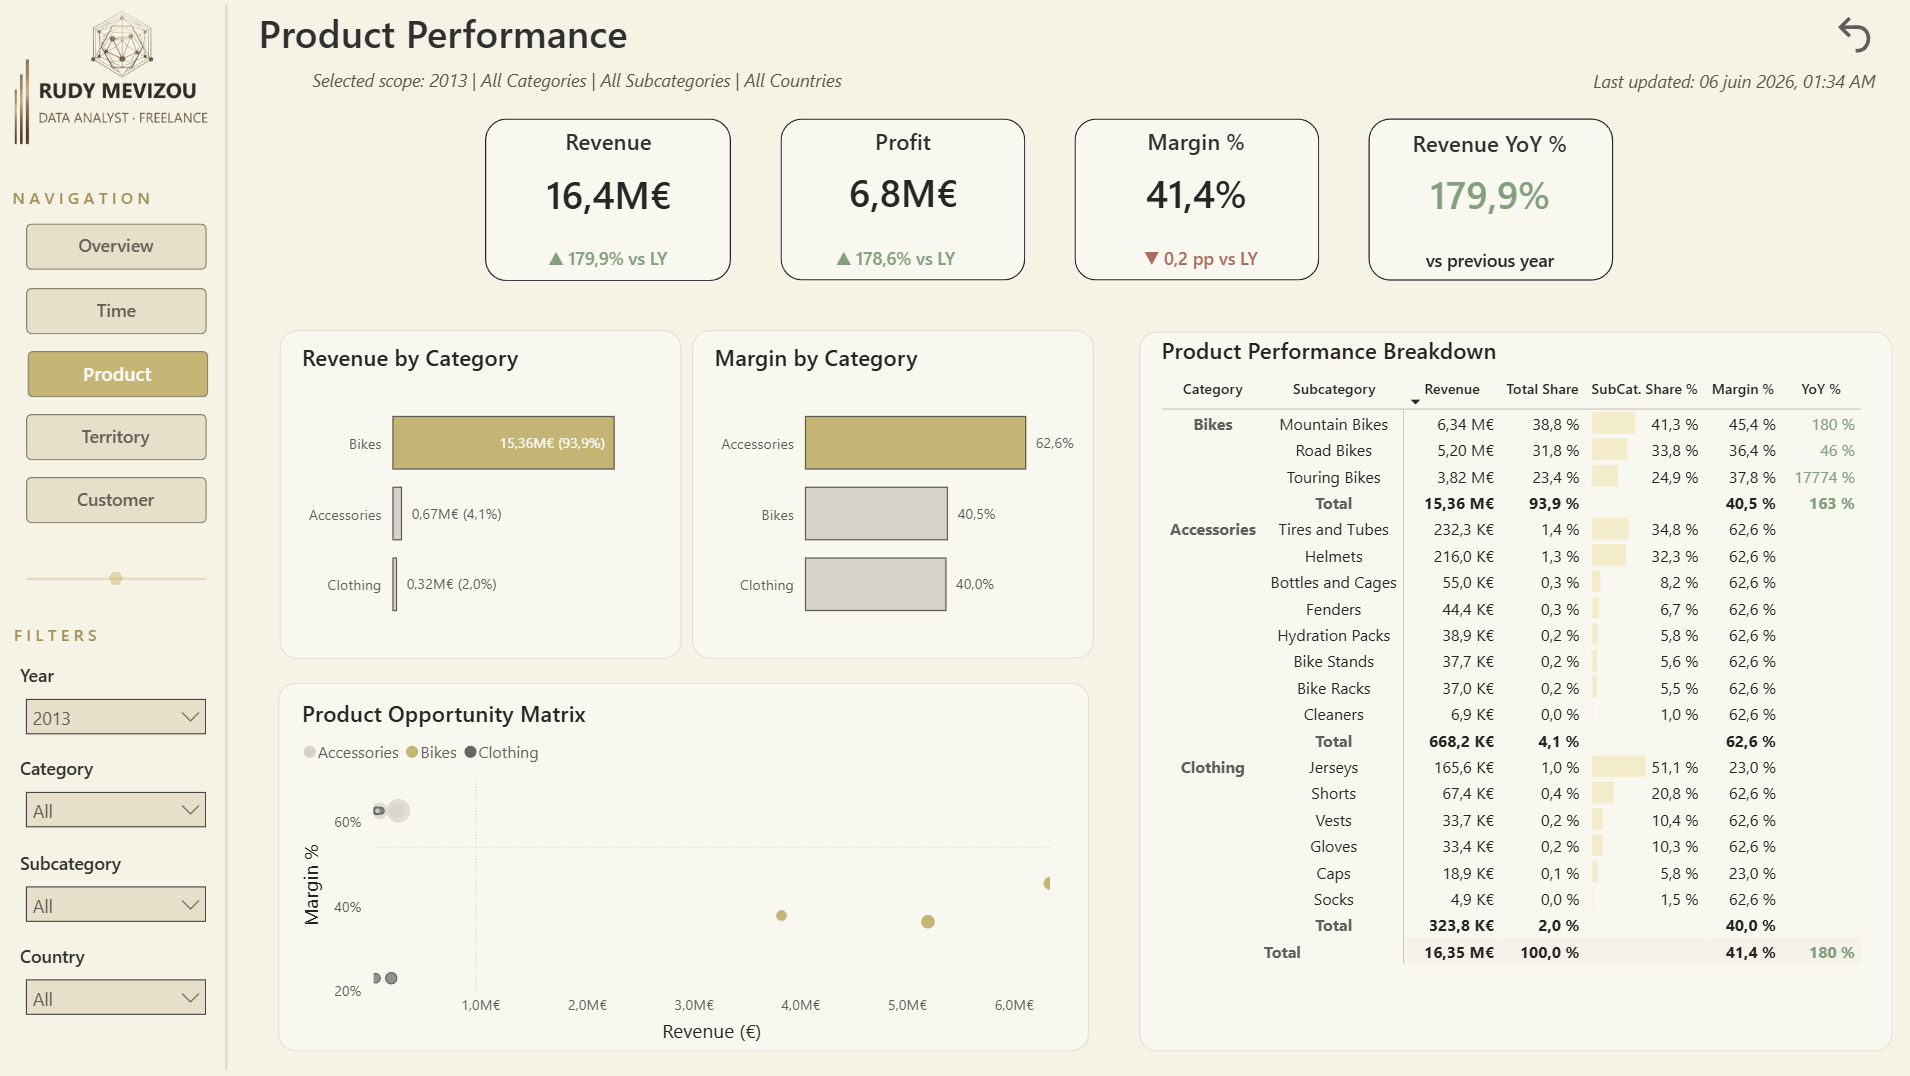

Layout of this report page (visuals, bound fields, positions):
{"tool":"powerbi","page":{"name":"Product Performance","canvas":[1600,900],"ordinal":2},"visuals":[{"type":"textbox","box":[213.3,0,501.2,56.2],"z":0,"group":"g23"},{"type":"shape","box":[654,98.3,204,135],"z":0,"group":"g16"},{"type":"shape","box":[899,98.8,204,135],"z":0,"group":"g6"},{"type":"shape","box":[408,98.9,205,135.6],"z":0,"group":"g22"},{"type":"group","id":"g1","title":"KPI YoY","box":[1144.4,98.9,204,135],"z":0,"group":"g15"},{"type":"shape","box":[1144.4,98.9,203.9,135.1],"z":0,"group":"g1"},{"type":"card","title":"Profit","fields":{"Values":["Mesures.Profit"]},"box":[675.2,104.8,161.7,86.4],"z":0,"group":"g7"},{"type":"card","title":"Margin %","fields":{"Values":["Mesures.Margin %"]},"box":[930.8,105.1,140.4,86.7],"z":0,"group":"g8"},{"type":"card","title":"Revenue","fields":{"Values":["Mesures.Revenue"]},"box":[418.9,105.4,183.2,88.5],"z":0,"group":"g9"},{"type":"card","title":"Revenue YoY %","fields":{"Values":["Mesures.Revenue YoY Display"]},"box":[1172.6,105.9,145,86.4],"z":0,"group":"g10"},{"type":"shape","box":[25,186.4,150.6,38.6],"z":0,"group":"g24"},{"type":"shape","box":[25.5,239.3,150.6,38.6],"z":0,"group":"g21"},{"type":"shape","box":[235.7,275,335.1,274.2],"z":0,"group":"g11"},{"type":"group","id":"g2","title":"Margin % by Category","box":[578.9,275,335,274],"z":0,"group":"g14"},{"type":"shape","box":[578.9,275,335,274],"z":0,"group":"g2"},{"type":"group","id":"g3","title":"06 - Table product","box":[953,275.9,628,600],"z":0},{"type":"shape","box":[953,275.9,628,600],"z":0,"group":"g3"},{"type":"shape","box":[26.8,292,150.6,38.6],"z":0,"group":"g17"},{"type":"shape","box":[25.5,344.7,150.6,38.6],"z":0,"group":"g12"},{"type":"group","id":"g4","title":"Customer button","box":[25.4,397.5,150.6,38.6],"z":0,"group":"g20"},{"type":"shape","box":[25.4,397.5,150.6,38.6],"z":0,"group":"g4"},{"type":"group","id":"g5","title":"Separator Line","box":[25,476.5,150.5,12.2],"z":0,"group":"g19"},{"type":"shape","box":[25,476.5,150.5,12.2],"z":0,"group":"g5"},{"type":"shape","box":[235,568.1,676,307.5],"z":0,"group":"g13"},{"type":"slicer","title":"Country","fields":{"Values":["Territory.Country"]},"box":[16,786.6,170,62.5],"z":0,"group":"g18"},{"type":"shape","box":[181.4,4.3,21.4,888.6],"z":1000,"group":"g19"},{"type":"card","fields":{"Values":["Mesures.Last Updated"]},"box":[1321.3,56.2,253.8,27],"z":1000,"group":"g23"},{"type":"group","id":"g6","title":"KPI Margin %","box":[899,98.8,204,135],"z":1000,"group":"g15"},{"type":"group","id":"g7","title":"Groupe 9","box":[675.2,104.8,161.7,127.6],"z":1000,"group":"g16"},{"type":"group","id":"g8","title":"Groupe 2","box":[929,105.1,150,128],"z":1000,"group":"g6"},{"type":"group","id":"g9","title":"Groupe 5","box":[418.9,105.4,183.2,127.9],"z":1000,"group":"g22"},{"type":"group","id":"g10","title":"Groupe 6","box":[1172.6,105.9,145,127.5],"z":1000,"group":"g1"},{"type":"textbox","box":[63.8,188.9,73,33],"z":1000,"group":"g24"},{"type":"card","fields":{"Values":["Mesures.Profit YoY Label"]},"box":[678.2,202.4,143.5,30],"z":1000,"group":"g7"},{"type":"card","fields":{"Values":["Mesures.Margin YoY Label"]},"box":[929,203,150,30.1],"z":1000,"group":"g8"},{"type":"card","fields":{"Values":["Mesures.Revenue YoY Label"]},"box":[440.6,203.2,138.9,30.1],"z":1000,"group":"g9"},{"type":"card","fields":{"Values":["Mesures.Revenue YoY Status"]},"box":[1173.1,203.3,144,30.1],"z":1000,"group":"g10"},{"type":"textbox","box":[79.1,242.3,43.5,32.6],"z":1000,"group":"g21"},{"type":"group","id":"g11","title":"Revenye by Category","box":[235.7,275,335.1,274.2],"z":1000,"group":"g14"},{"type":"pivotTable","title":"Product Performance Breakdown","fields":{"Values":["Mesures.Revenue Display Product","Mesures.Global % Display","Mesures.Revenue Share Within Category","Mesures.Margin %","Mesures.Revenue YoY % Clean"],"Rows":["Product.ProductCategory","Product.ProductSubcategory"]},"box":[966.8,278.6,595,590],"z":1000,"group":"g3"},{"type":"barChart","title":"Revenue by Category","fields":{"Category":["Product.ProductCategory"],"Y":["Mesures.Revenue"]},"box":[250,285,311,255],"z":1000,"group":"g11"},{"type":"clusteredBarChart","title":"Margin by Category","fields":{"Category":["Product.ProductCategory"],"Y":["Mesures.Margin %"]},"box":[593,285,311,255],"z":1000,"group":"g2"},{"type":"textbox","box":[67.5,295,69.1,32.2],"z":1000,"group":"g17"},{"type":"group","id":"g12","title":"Territory button","box":[25.5,344.7,150.6,38.6],"z":1000,"group":"g20"},{"type":"textbox","box":[67.3,347.7,67,32.6],"z":1000,"group":"g12"},{"type":"textbox","box":[62.6,399.4,76.2,32.5],"z":1000,"group":"g4"},{"type":"shape","box":[94.1,476.5,12.2,11.3],"z":1000,"group":"g5"},{"type":"group","id":"g13","title":"05 - Scatter product","box":[235,568.1,676,307.5],"z":1000},{"type":"scatterChart","title":"Product Opportunity Matrix","fields":{"X":["Mesures.Revenue"],"Y":["Mesures.Margin %"],"Size":["Mesures.Units Sold"],"Category":["Product.ProductSubcategory"],"Series":["Product.ProductCategory"]},"box":[250,580.4,650,292.5],"z":1000,"group":"g13"},{"type":"slicer","title":"Subcategory","fields":{"Values":["Product.ProductSubcategory"]},"box":[16,708.3,170,62.5],"z":1000,"group":"g18"},{"type":"group","id":"g14","title":"04 - Charts products","box":[235.7,275,678.2,274.2],"z":1500},{"type":"group","id":"g15","title":"03 - KPI","box":[408,98.3,940.4,135.6],"z":2000},{"type":"group","id":"g16","title":"KPI Profit","box":[654,98.3,204,135],"z":2000,"group":"g15"},{"type":"group","id":"g17","title":"Product button","box":[26.8,292,150.6,38.6],"z":2000,"group":"g20"},{"type":"group","id":"g18","title":"Filters label","box":[10.5,513.7,175.5,335.4],"z":2000,"group":"g19"},{"type":"slicer","title":"Category","fields":{"Values":["Product.ProductCategory"]},"box":[16,630.4,170,62],"z":2000,"group":"g18"},{"type":"group","id":"g19","title":"02 - Sidebar","box":[0,0,202.9,892.9],"z":3000},{"type":"actionButton","box":[1528.8,8.8,50,40],"z":3000,"group":"g23"},{"type":"group","id":"g20","title":"Navigation label","box":[8.9,149.8,168.5,286.2],"z":3000,"group":"g19"},{"type":"group","id":"g21","title":"Time button","box":[25.5,239.3,150.6,38.6],"z":3000,"group":"g20"},{"type":"slicer","title":"Year","fields":{"Values":["Date.CalendarYear Hiérarchie.CalendarYear"]},"box":[16,551.8,170,62.8],"z":3000,"group":"g18"},{"type":"group","id":"g22","title":"KPI Revenue","box":[408,98.9,204.4,135],"z":3500,"group":"g15"},{"type":"image","title":"Logo","box":[0,0,201.7,136.7],"z":4000,"group":"g19"},{"type":"group","id":"g23","title":"01 - Header","box":[208.4,0,1370.4,83.3],"z":4000},{"type":"card","fields":{"Values":["Mesures.Selection Summary Proudct"]},"box":[208.4,55.5,550,27.8],"z":4000,"group":"g23"},{"type":"group","id":"g24","title":"Overview button","box":[25,186.4,150.6,38.6],"z":4000,"group":"g20"},{"type":"textbox","title":"Filters text","box":[10.5,513.7,136.4,36.4],"z":4000,"group":"g18"},{"type":"textbox","title":"Navigation text","box":[8.9,149.8,145.6,36],"z":5000,"group":"g20"}]}

Visuals, with their boxes in screenshot pixels (x1, y1, x2, y2), scaled from the page's 1600x900 canvas onto the 1910x1076 screenshot:
textbox: bbox(255, 0, 853, 67)
shape: bbox(781, 118, 1024, 279)
shape: bbox(1073, 118, 1317, 280)
shape: bbox(487, 118, 732, 280)
"KPI YoY" group: bbox(1366, 118, 1610, 280)
shape: bbox(1366, 118, 1610, 280)
"Profit" card: bbox(806, 125, 999, 229)
"Margin %" card: bbox(1111, 126, 1279, 229)
"Revenue" card: bbox(500, 126, 719, 232)
"Revenue YoY %" card: bbox(1400, 127, 1573, 230)
shape: bbox(30, 223, 210, 269)
shape: bbox(30, 286, 210, 332)
shape: bbox(281, 329, 681, 657)
"Margin % by Category" group: bbox(691, 329, 1091, 656)
shape: bbox(691, 329, 1091, 656)
"06 - Table product" group: bbox(1138, 330, 1887, 1047)
shape: bbox(1138, 330, 1887, 1047)
shape: bbox(32, 349, 212, 395)
shape: bbox(30, 412, 210, 458)
"Customer button" group: bbox(30, 475, 210, 521)
shape: bbox(30, 475, 210, 521)
"Separator Line" group: bbox(30, 570, 210, 584)
shape: bbox(30, 570, 210, 584)
shape: bbox(281, 679, 1088, 1047)
"Country" slicer: bbox(19, 940, 222, 1015)
shape: bbox(217, 5, 242, 1068)
card - Mesures.Last Updated: bbox(1577, 67, 1880, 99)
"KPI Margin %" group: bbox(1073, 118, 1317, 280)
"Groupe 9" group: bbox(806, 125, 999, 278)
"Groupe 2" group: bbox(1109, 126, 1288, 279)
"Groupe 5" group: bbox(500, 126, 719, 279)
"Groupe 6" group: bbox(1400, 127, 1573, 279)
textbox: bbox(76, 226, 163, 265)
card - Mesures.Profit YoY Label: bbox(810, 242, 981, 278)
card - Mesures.Margin YoY Label: bbox(1109, 243, 1288, 279)
card - Mesures.Revenue YoY Label: bbox(526, 243, 692, 279)
card - Mesures.Revenue YoY Status: bbox(1400, 243, 1572, 279)
textbox: bbox(94, 290, 146, 329)
"Revenye by Category" group: bbox(281, 329, 681, 657)
"Product Performance Breakdown" pivotTable: bbox(1154, 333, 1864, 1038)
"Revenue by Category" barChart: bbox(298, 341, 670, 646)
"Margin by Category" clusteredBarChart: bbox(708, 341, 1079, 646)
textbox: bbox(81, 353, 163, 391)
"Territory button" group: bbox(30, 412, 210, 458)
textbox: bbox(80, 416, 160, 455)
textbox: bbox(75, 478, 166, 516)
shape: bbox(112, 570, 127, 583)
"05 - Scatter product" group: bbox(281, 679, 1088, 1047)
"Product Opportunity Matrix" scatterChart: bbox(298, 694, 1074, 1044)
"Subcategory" slicer: bbox(19, 847, 222, 922)
"04 - Charts products" group: bbox(281, 329, 1091, 657)
"03 - KPI" group: bbox(487, 118, 1610, 280)
"KPI Profit" group: bbox(781, 118, 1024, 279)
"Product button" group: bbox(32, 349, 212, 395)
"Filters label" group: bbox(13, 614, 222, 1015)
"Category" slicer: bbox(19, 754, 222, 828)
"02 - Sidebar" group: bbox(0, 0, 242, 1068)
actionButton: bbox(1825, 11, 1885, 58)
"Navigation label" group: bbox(11, 179, 212, 521)
"Time button" group: bbox(30, 286, 210, 332)
"Year" slicer: bbox(19, 660, 222, 735)
"KPI Revenue" group: bbox(487, 118, 731, 280)
"Logo" image: bbox(0, 0, 241, 163)
"01 - Header" group: bbox(249, 0, 1885, 100)
card - Mesures.Selection Summary Proudct: bbox(249, 66, 905, 100)
"Overview button" group: bbox(30, 223, 210, 269)
"Filters text" textbox: bbox(13, 614, 175, 658)
"Navigation text" textbox: bbox(11, 179, 184, 222)
